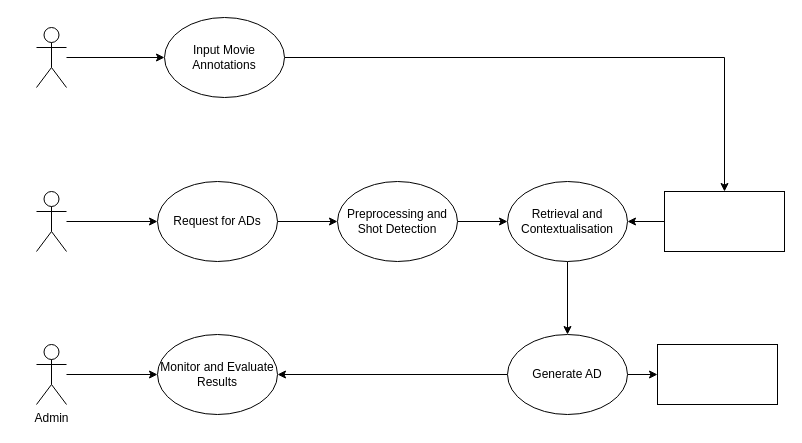
This 802x443 diagram has some shape labels left out. Here are the shapes that lost their labels. From the top down, the box of each, then its label:
(36, 26, 66, 88): Sighted User
(36, 190, 66, 252): BLV User
(664, 190, 784, 252): Database
(656, 344, 778, 404): Text-Only LLM
